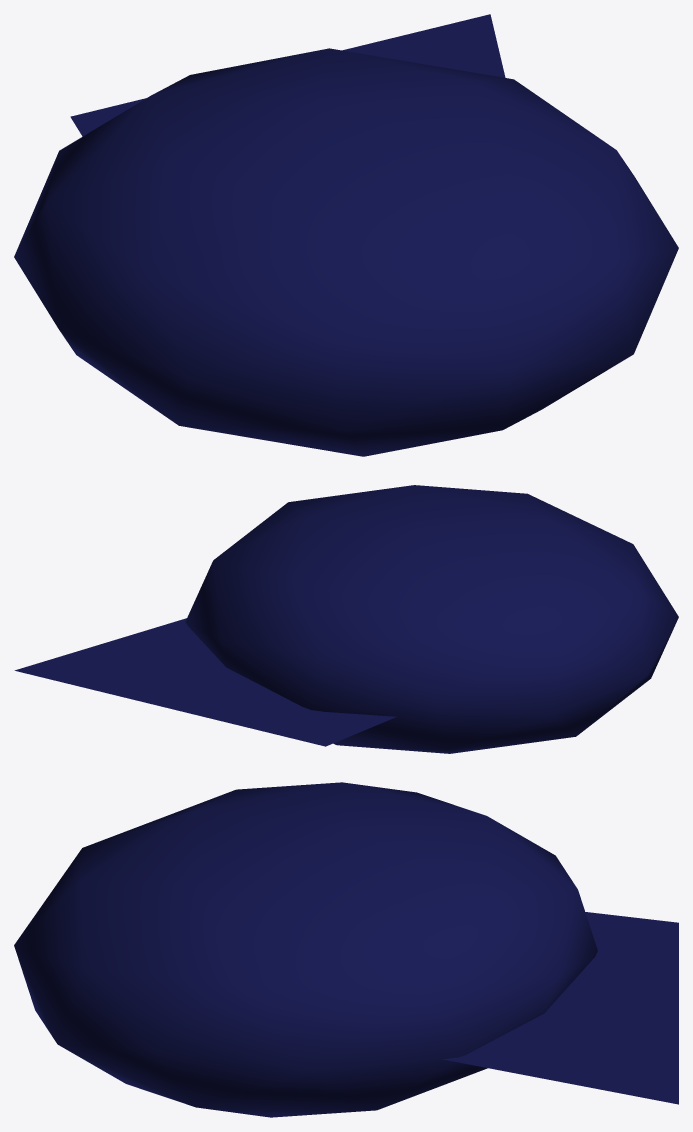
Rendered from Ger_FieldSwamp.fbx.
3 renders of one model, top to bottom at view 1: azimuth 30°, elevation 25°; view 2: azimuth 150°, elevation 25°; view 3: azimuth 270°, elevation 25°, orthographic. The views are drawn at different scales.
Parts seen in each view (by area): view 1: Ger.backSpa, Plan.061; view 2: Ger.backSpa, Plan.061; view 3: Ger.backSpa, Plan.061.
Boxes of the visible parts, x1=… form: Ger.backSpa: x1=14, y1=48, x2=678, y2=456; Plan.061: x1=70, y1=14, x2=505, y2=136; Ger.backSpa: x1=185, y1=485, x2=678, y2=753; Plan.061: x1=14, y1=618, x2=396, y2=746; Ger.backSpa: x1=14, y1=782, x2=597, y2=1117; Plan.061: x1=443, y1=912, x2=678, y2=1104.
Size of the model in its own units: 2742 by 1107 by 2768.
